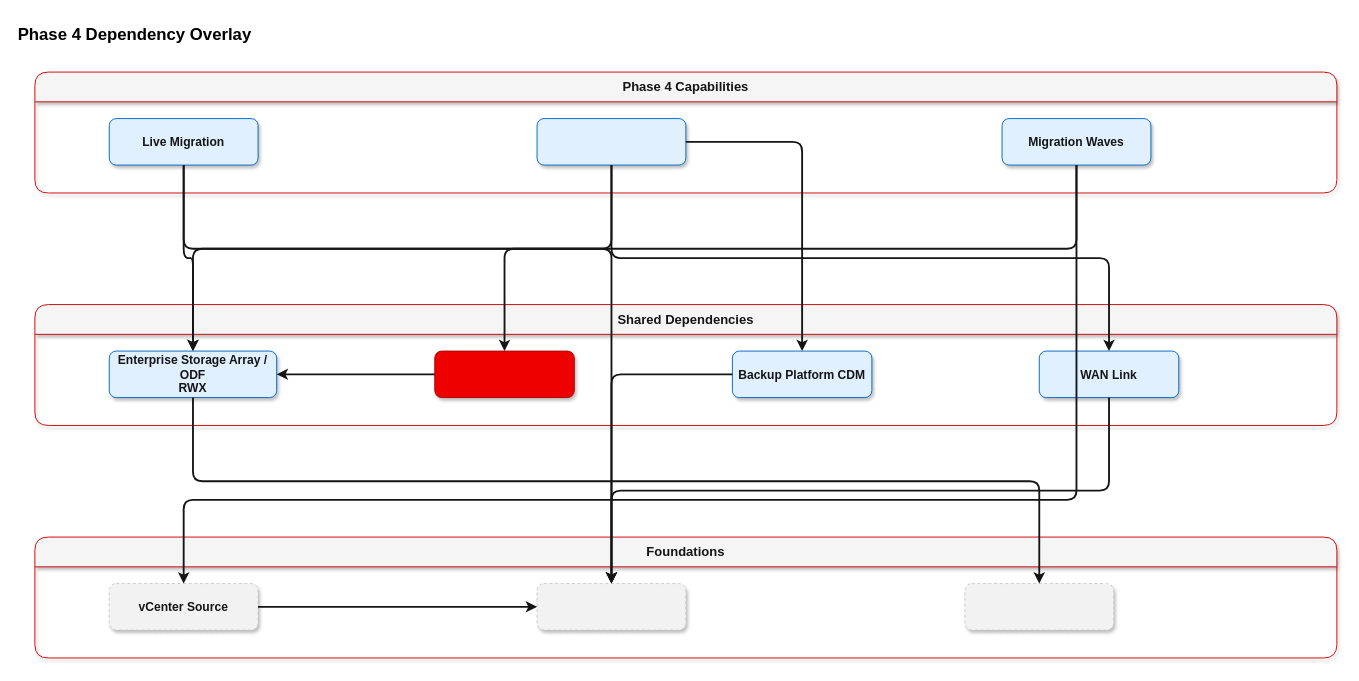
The diagram is 1359 pixels wide and 681 high, and some of its shapes have lost their labels. Here are the shapes that lost their labels. From the top down, the centre of each, then its label:
At (x=611, y=143): "Backup and DR".
At (x=505, y=375): "MTV Operator".
At (x=611, y=608): "Physical Network".
At (x=1039, y=608): "NVMe / SSD".
